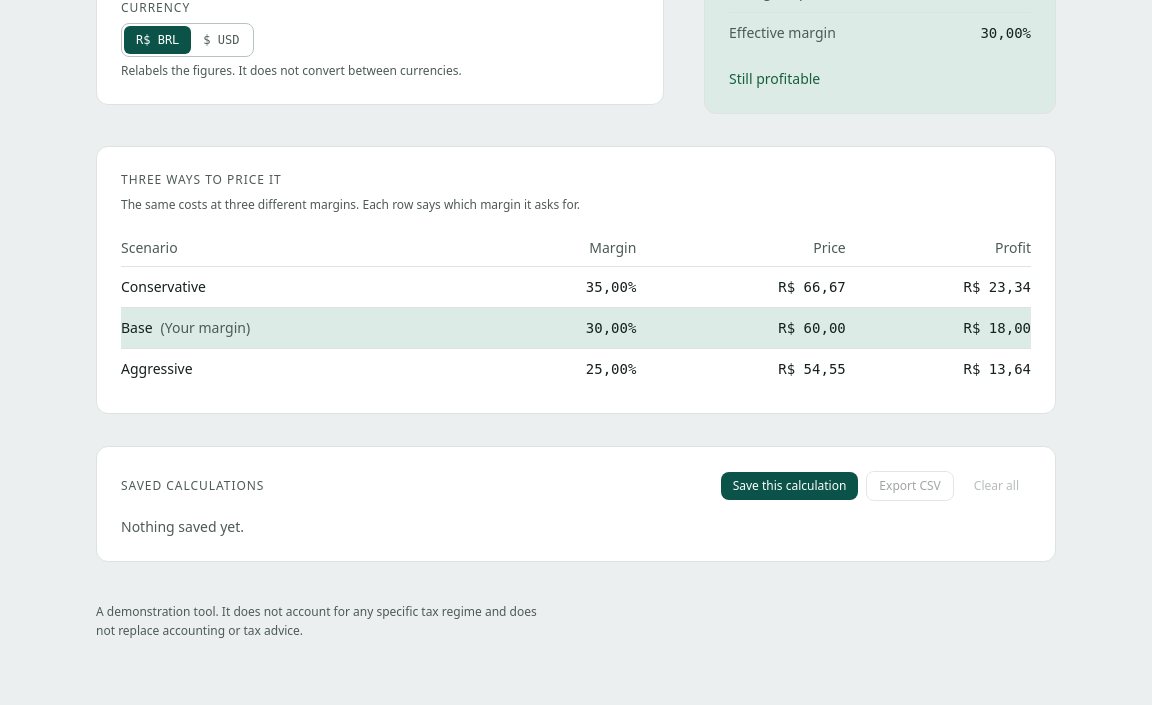
it: the history › names an unnamed calculation rather than saving a blank row
(page scrolled)
Step 1. Click the button "Save this calculation" → (789, 486), box [721,472,858,500]
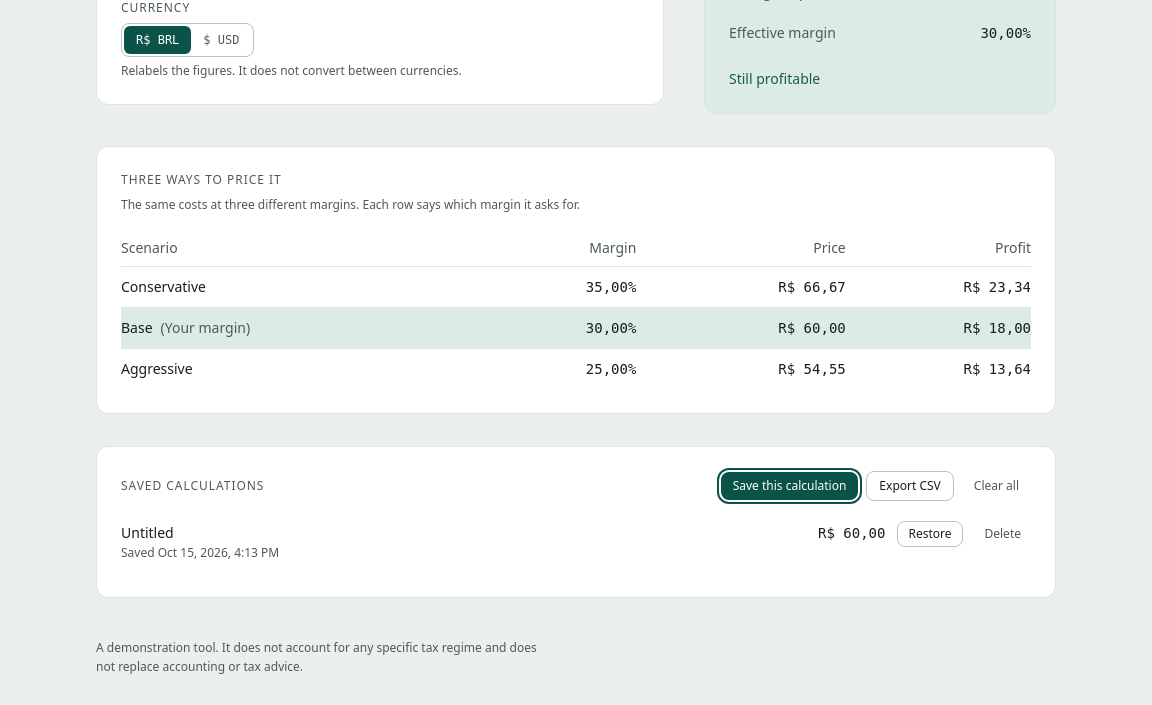
Now the number of list items is 1, box [121,508,1031,572]
Now the text "Untitled" is shown, box [121,522,174,542]
